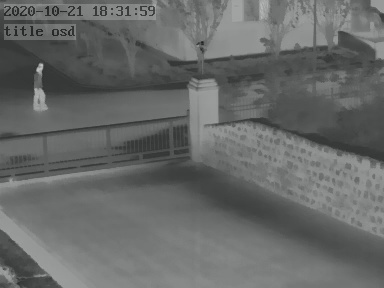person: (31, 60, 47, 108)
